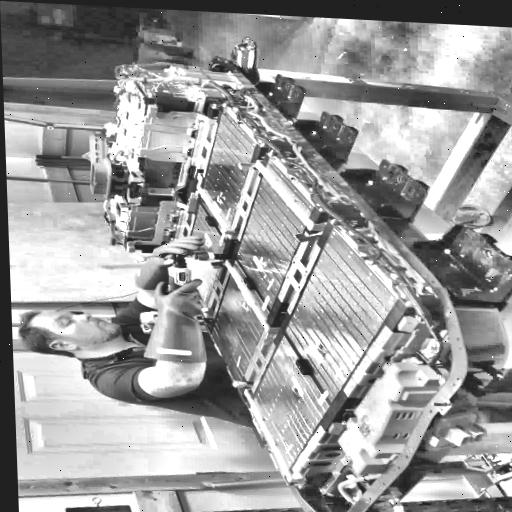battery_module: (284, 227, 397, 402), (235, 159, 313, 308), (249, 336, 329, 471), (211, 260, 269, 383), (198, 112, 254, 238), (179, 203, 223, 308)
busbar: (232, 157, 331, 245), (232, 380, 305, 482), (208, 256, 286, 348), (122, 188, 202, 253), (195, 169, 242, 244), (141, 99, 223, 126), (116, 168, 154, 210)
connector: (86, 156, 128, 202)
high_volt_cable: (115, 72, 431, 293)
low_volt_cable: (112, 56, 446, 385)
